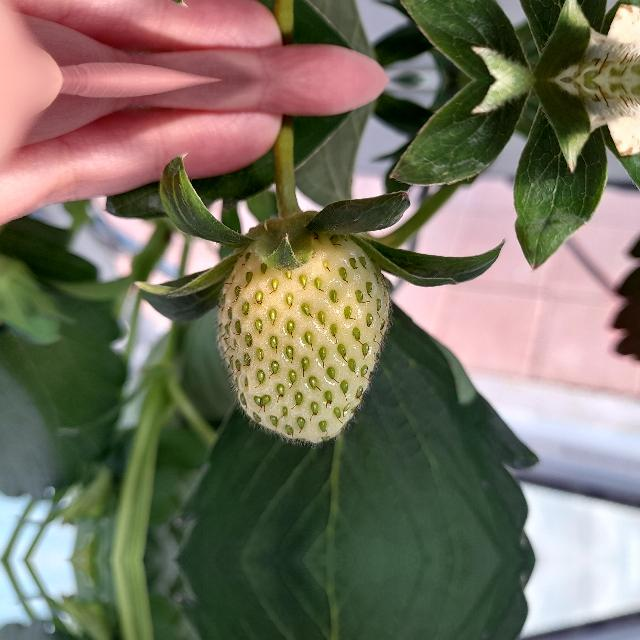Health_25: (215, 232, 389, 444)
